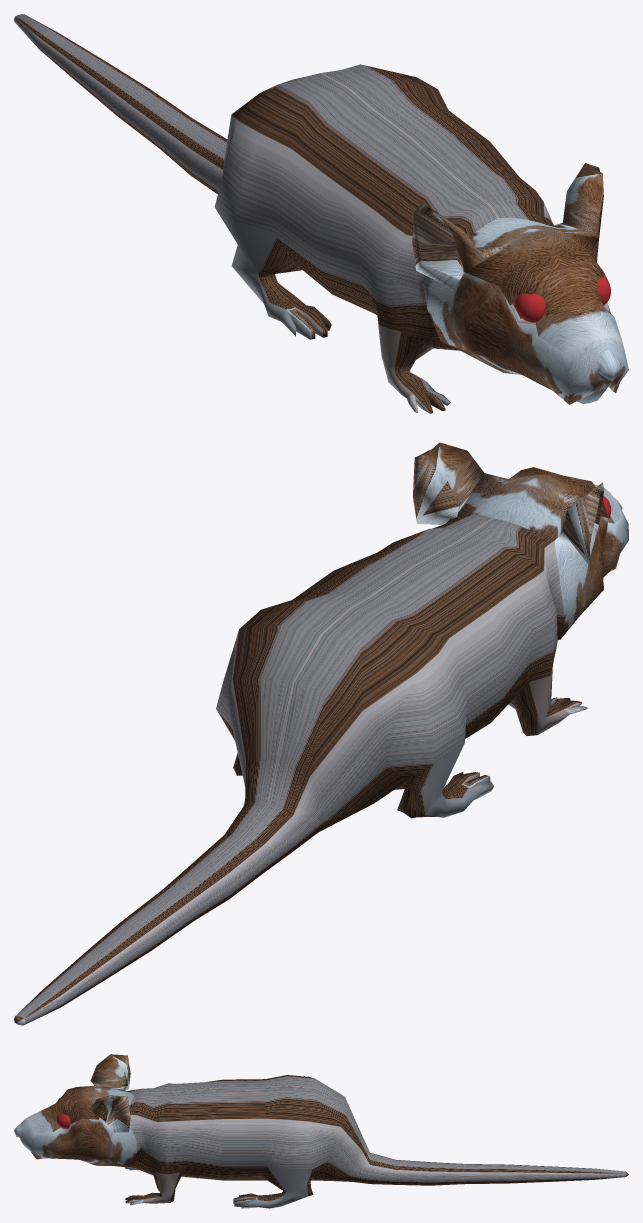
The model's file is ratoncito.obj.
3 views of the same model, one above another, from view 1: azimuth 30°, elevation 25°; view 2: azimuth 150°, elevation 25°; view 3: azimuth 270°, elevation 25° (orthographic). The views are drawn at different scales.
Parts seen in each view (by area): view 1: ratonBueno, Sphere002; view 2: ratonBueno; view 3: ratonBueno.
Boxes of the visible parts, box(x1,y1,x2,y2) form: ratonBueno: box(14, 14, 628, 413); Sphere002: box(514, 293, 545, 322); ratonBueno: box(14, 442, 628, 1025); ratonBueno: box(14, 1054, 628, 1208).
Bounding box in the file's own units: 6.08 × 5.39 × 27.46.
Materials: 2 (2 with a texture image).
